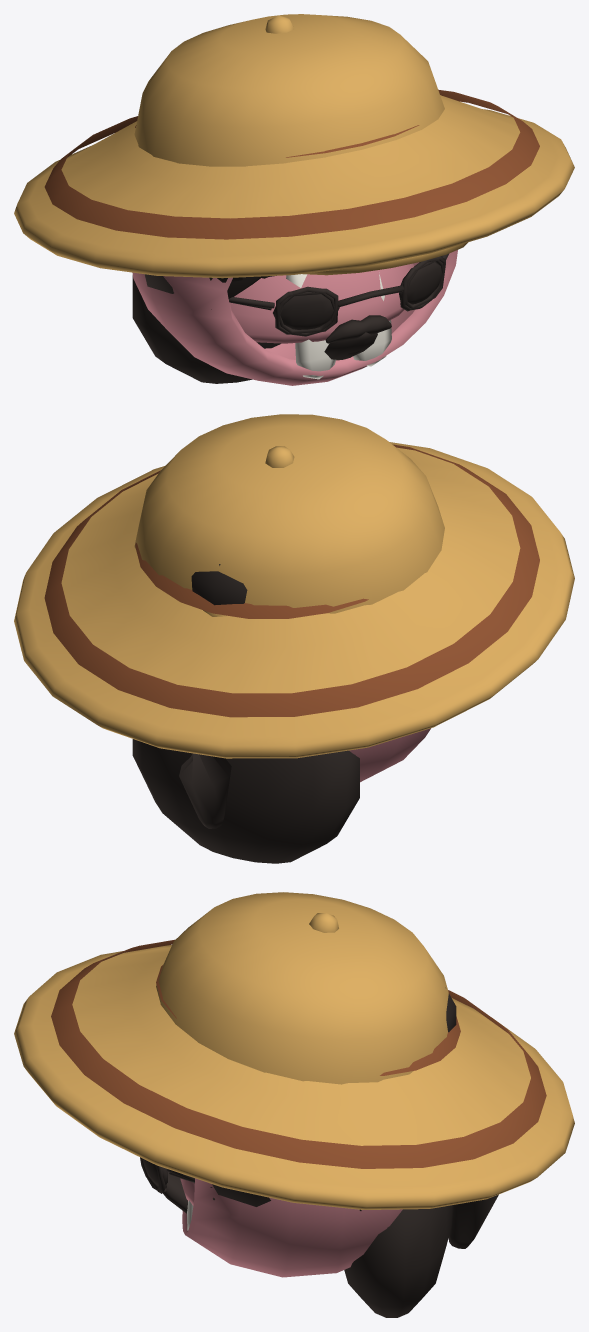
The model's file is char_looks.glb.
3 views of the same model, one above another, from view 1: azimuth 30°, elevation 25°; view 2: azimuth 150°, elevation 25°; view 3: azimuth 270°, elevation 25° (orthographic).
Visible parts, largest first — view 1: hat_caping, hat_straw, hijab, hijab_drape, hair_long, sunglasses, towel, beard, glasses, glasses_sq, hat_cap; view 2: hat_caping, hat_straw, hair_long, hair_pony, hijab, hair_bun; view 3: hat_caping, hat_straw, hijab, hair_long, hair_pony, hair_messy, beard.
Boxes of the visible parts, x1=… form: hat_caping: x1=14, y1=15, x2=574, y2=278; hat_straw: x1=134, y1=14, x2=444, y2=166; hijab: x1=132, y1=250, x2=457, y2=385; hijab_drape: x1=230, y1=263, x2=413, y2=343; hair_long: x1=132, y1=275, x2=280, y2=383; sunglasses: x1=228, y1=253, x2=448, y2=329; towel: x1=286, y1=272, x2=391, y2=379; beard: x1=324, y1=315, x2=391, y2=360; glasses: x1=230, y1=255, x2=448, y2=336; glasses_sq: x1=275, y1=256, x2=445, y2=334; hat_cap: x1=303, y1=242, x2=467, y2=275; hat_caping: x1=14, y1=442, x2=574, y2=758; hat_straw: x1=134, y1=414, x2=444, y2=613; hair_long: x1=132, y1=739, x2=359, y2=863; hair_pony: x1=179, y1=753, x2=231, y2=828; hijab: x1=349, y1=728, x2=430, y2=782; hair_bun: x1=191, y1=564, x2=247, y2=605; hat_caping: x1=14, y1=913, x2=574, y2=1209; hat_straw: x1=156, y1=892, x2=448, y2=1084; hijab: x1=182, y1=1178, x2=402, y2=1277; hair_long: x1=213, y1=1197, x2=451, y2=1317; hair_pony: x1=448, y1=1194, x2=498, y2=1248; hair_messy: x1=212, y1=1184, x2=361, y2=1210; beard: x1=163, y1=1169, x2=187, y2=1213.
Bounding box in the file's own units: 0.824 × 0.6251 × 0.8115.
